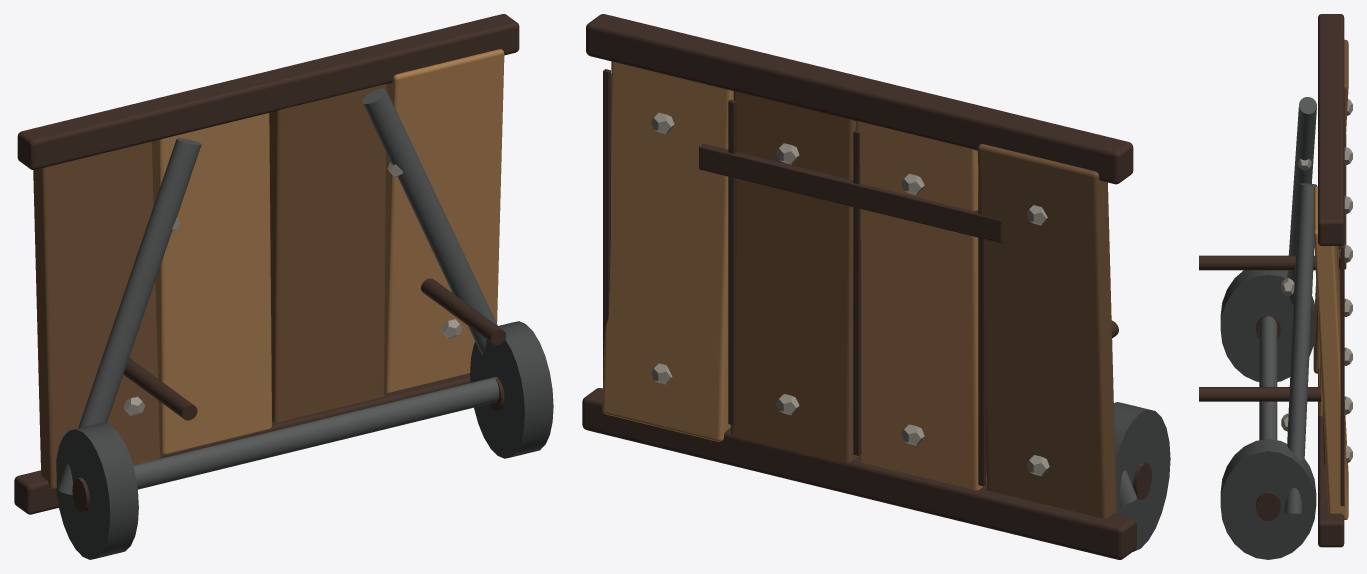
File: extra_mantlet.glb
3 renders of one model, left to right at view 1: azimuth 30°, elevation 25°; view 2: azimuth 150°, elevation 25°; view 3: azimuth 270°, elevation 25°, orthographic. The views are drawn at different scales.
Visible parts, largest first — view 1: wood, stone, metal; view 2: wood, metal; view 3: wood, stone, metal.
Part boxes in pixels (left/top/right/bottom): wood: left=14, top=14, right=553, bottom=559; stone: left=57, top=88, right=499, bottom=495; metal: left=123, top=162, right=462, bottom=416; wood: left=582, top=14, right=1170, bottom=559; metal: left=651, top=112, right=1049, bottom=476; wood: left=1199, top=14, right=1348, bottom=559; stone: left=1259, top=97, right=1316, bottom=513; metal: left=1281, top=99, right=1352, bottom=462.
Bounding box in the file's own units: 2.6 × 2 × 0.8.
